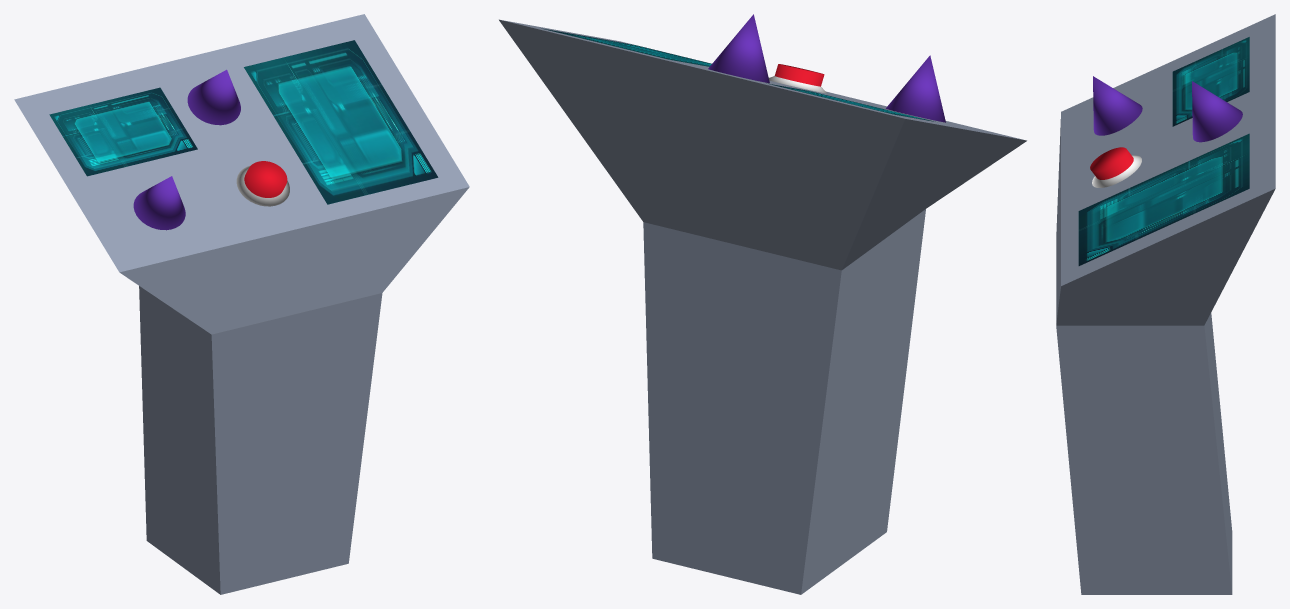
Rendered from pupitre.glb.
3 renders of one model, left to right at view 1: azimuth 30°, elevation 25°; view 2: azimuth 150°, elevation 25°; view 3: azimuth 270°, elevation 25°, orthographic. The views are drawn at different scales.
Visible parts, largest first — view 1: Cylinder; view 2: Cylinder; view 3: Cylinder.
Part boxes in pixels (x1,y1,x2,y2): Cylinder: (14, 14, 469, 594); Cylinder: (499, 14, 1026, 594); Cylinder: (1056, 14, 1275, 594).
Bounding box in the file's own units: 3.04 × 3.91 × 1.62.
5 materials, 1 textured.
